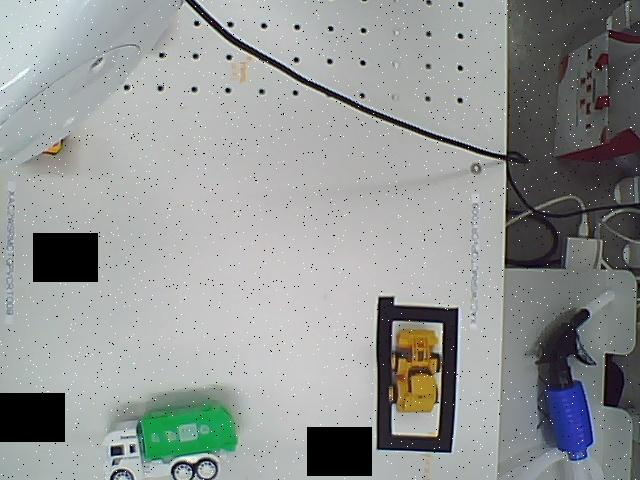Electric car: (102, 399, 245, 480)
Gasoline car: (389, 319, 446, 415)
